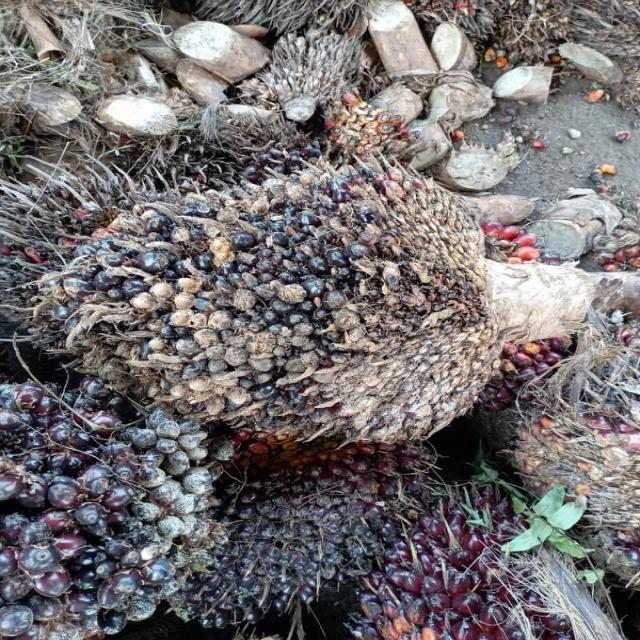fraksi 00: (43, 168, 521, 448), (0, 373, 215, 639), (189, 406, 427, 622)
